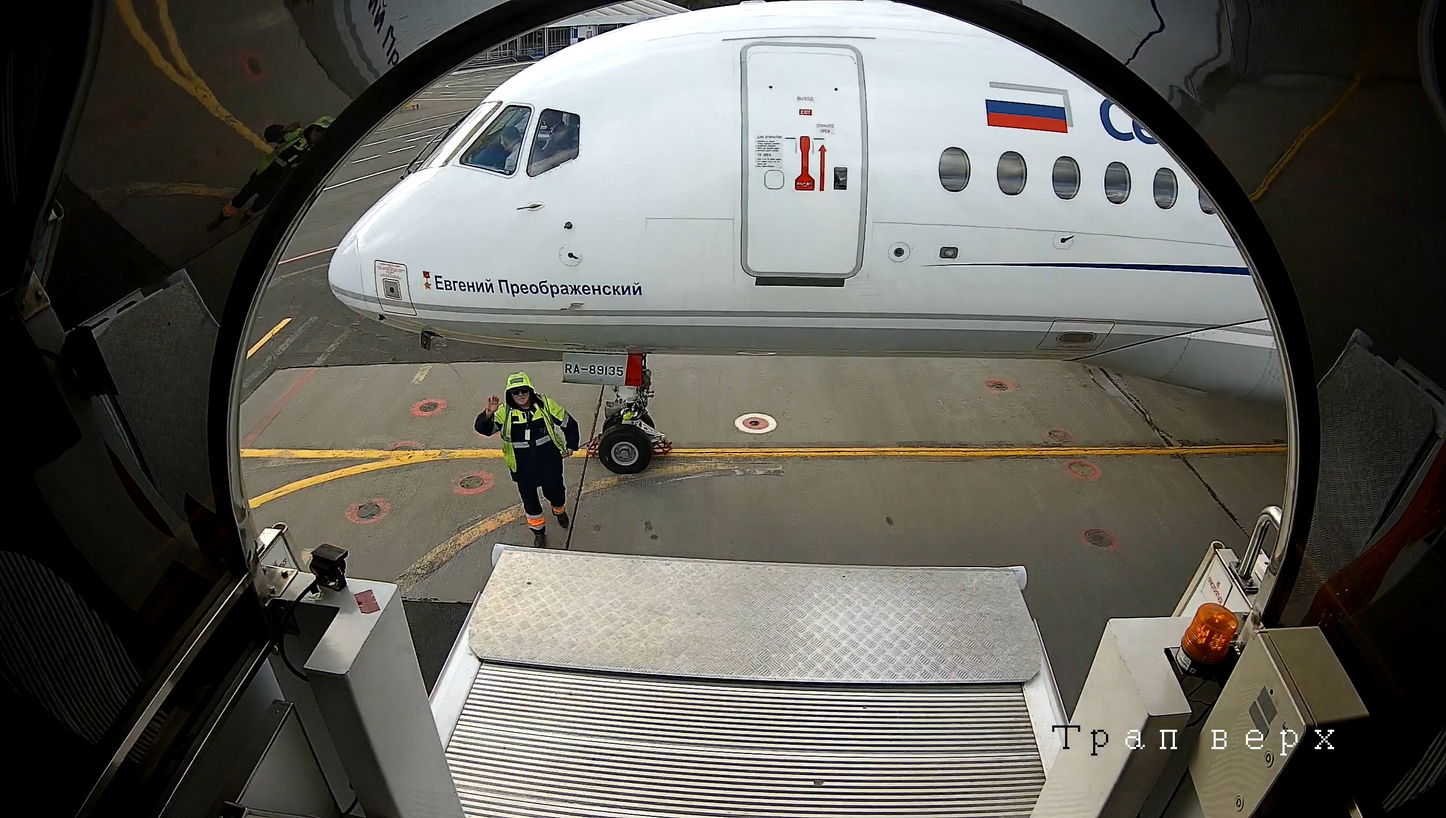boots: (644, 425, 677, 462), (578, 432, 609, 466)
wheels: (597, 426, 660, 476), (600, 408, 656, 438)
